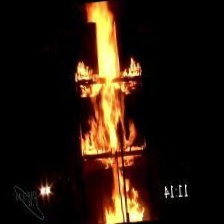fire: (55, 0, 166, 224)
